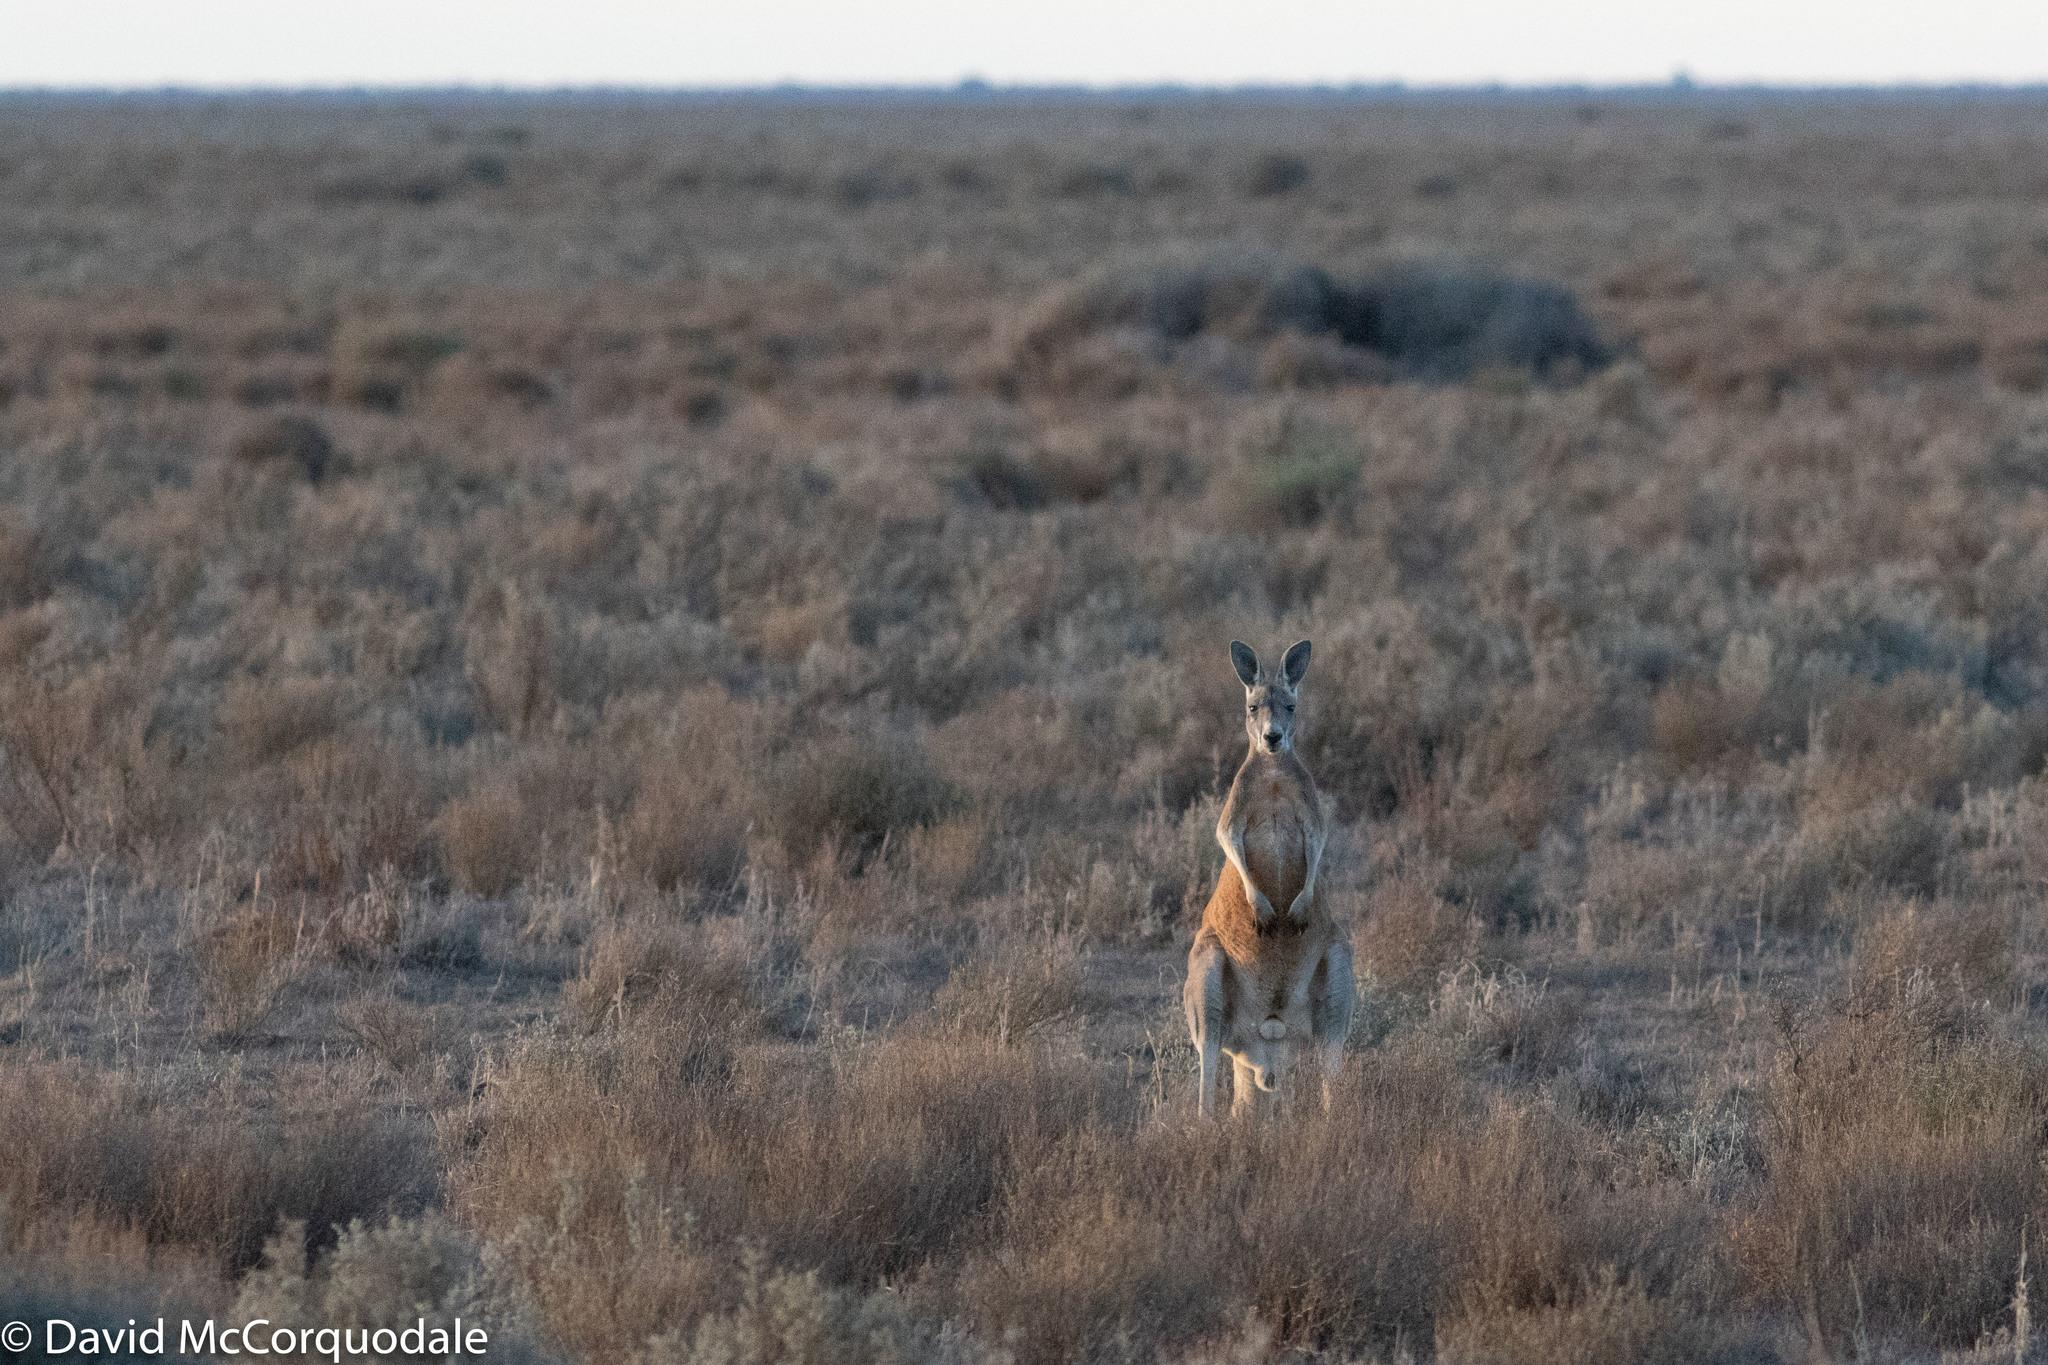Red kangaroo: (1174, 638, 1367, 1143)
